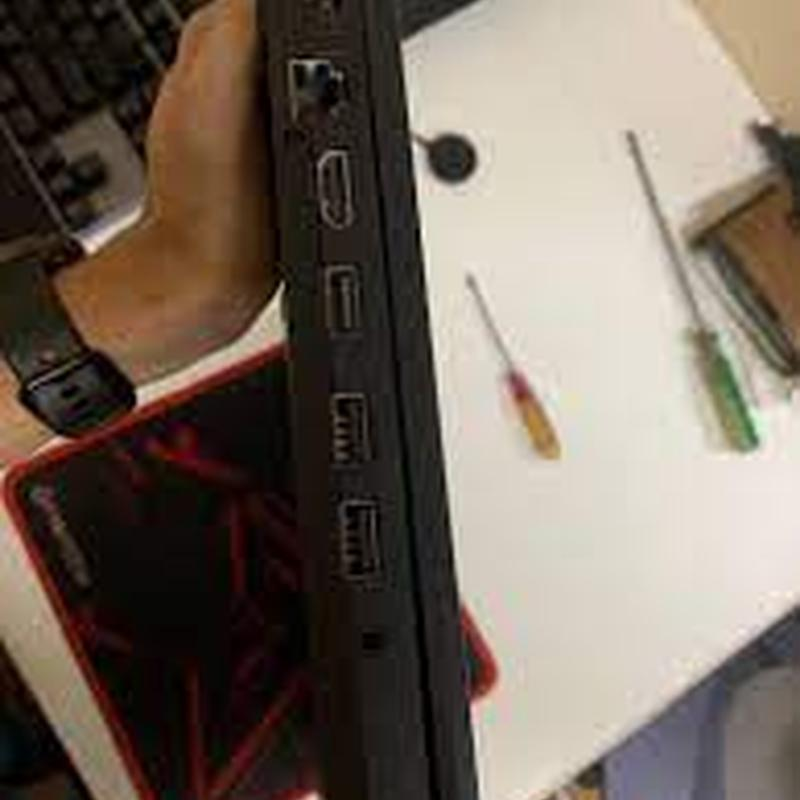ETHERNET: (269, 44, 363, 141)
HDMI: (291, 136, 381, 241)
USB: (311, 252, 377, 364), (314, 380, 379, 477), (334, 497, 386, 610)
